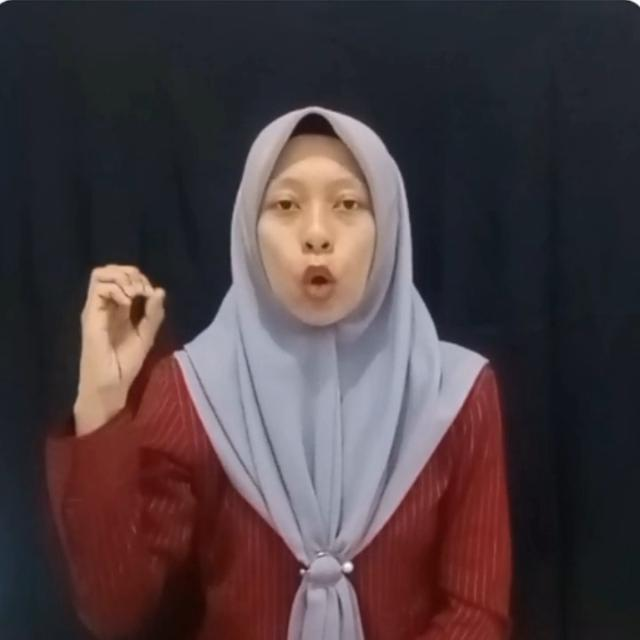O: (76, 256, 174, 394)
